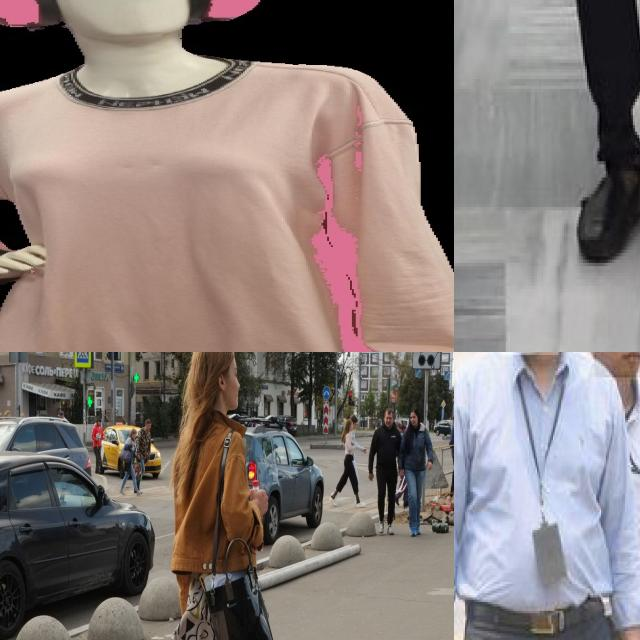Ear-protection: (0, 0, 323, 54)
face_nomask: (594, 352, 640, 377)
person: (454, 352, 633, 640), (580, 352, 640, 640)
